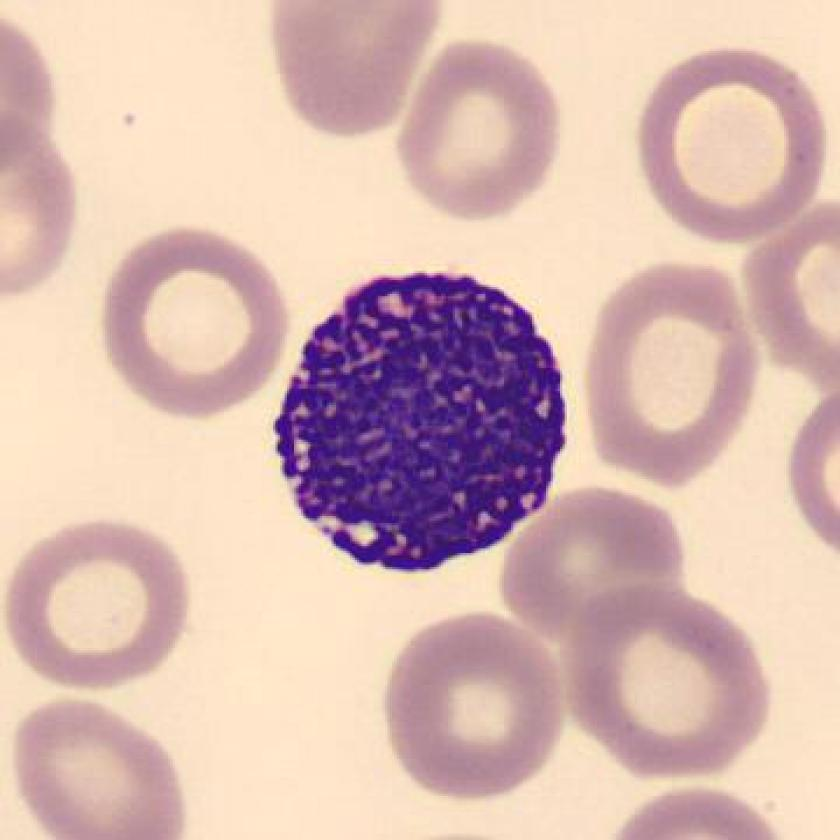basophil: (267, 258, 573, 584)
